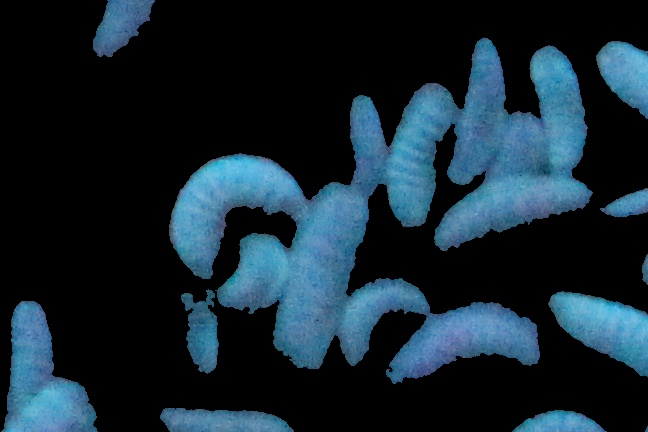larvae: (268, 182, 370, 371), (173, 153, 300, 278), (432, 172, 598, 250), (389, 303, 538, 388), (448, 34, 509, 184), (548, 288, 648, 379), (388, 81, 449, 228), (528, 46, 595, 172), (336, 278, 431, 366), (221, 232, 298, 307), (1, 299, 52, 408), (177, 278, 227, 380), (595, 37, 648, 131), (86, 1, 164, 62), (339, 94, 388, 185), (21, 380, 103, 432), (150, 403, 297, 432), (498, 113, 547, 183), (505, 406, 608, 432)
